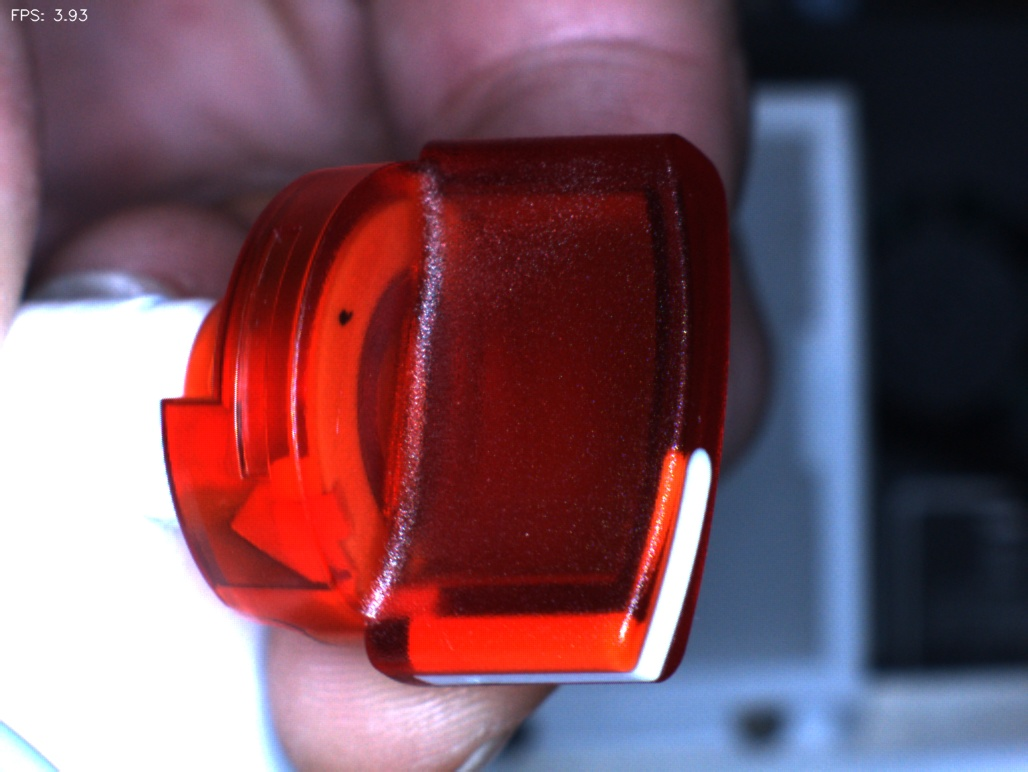PointNoir: (313, 287, 380, 354)
